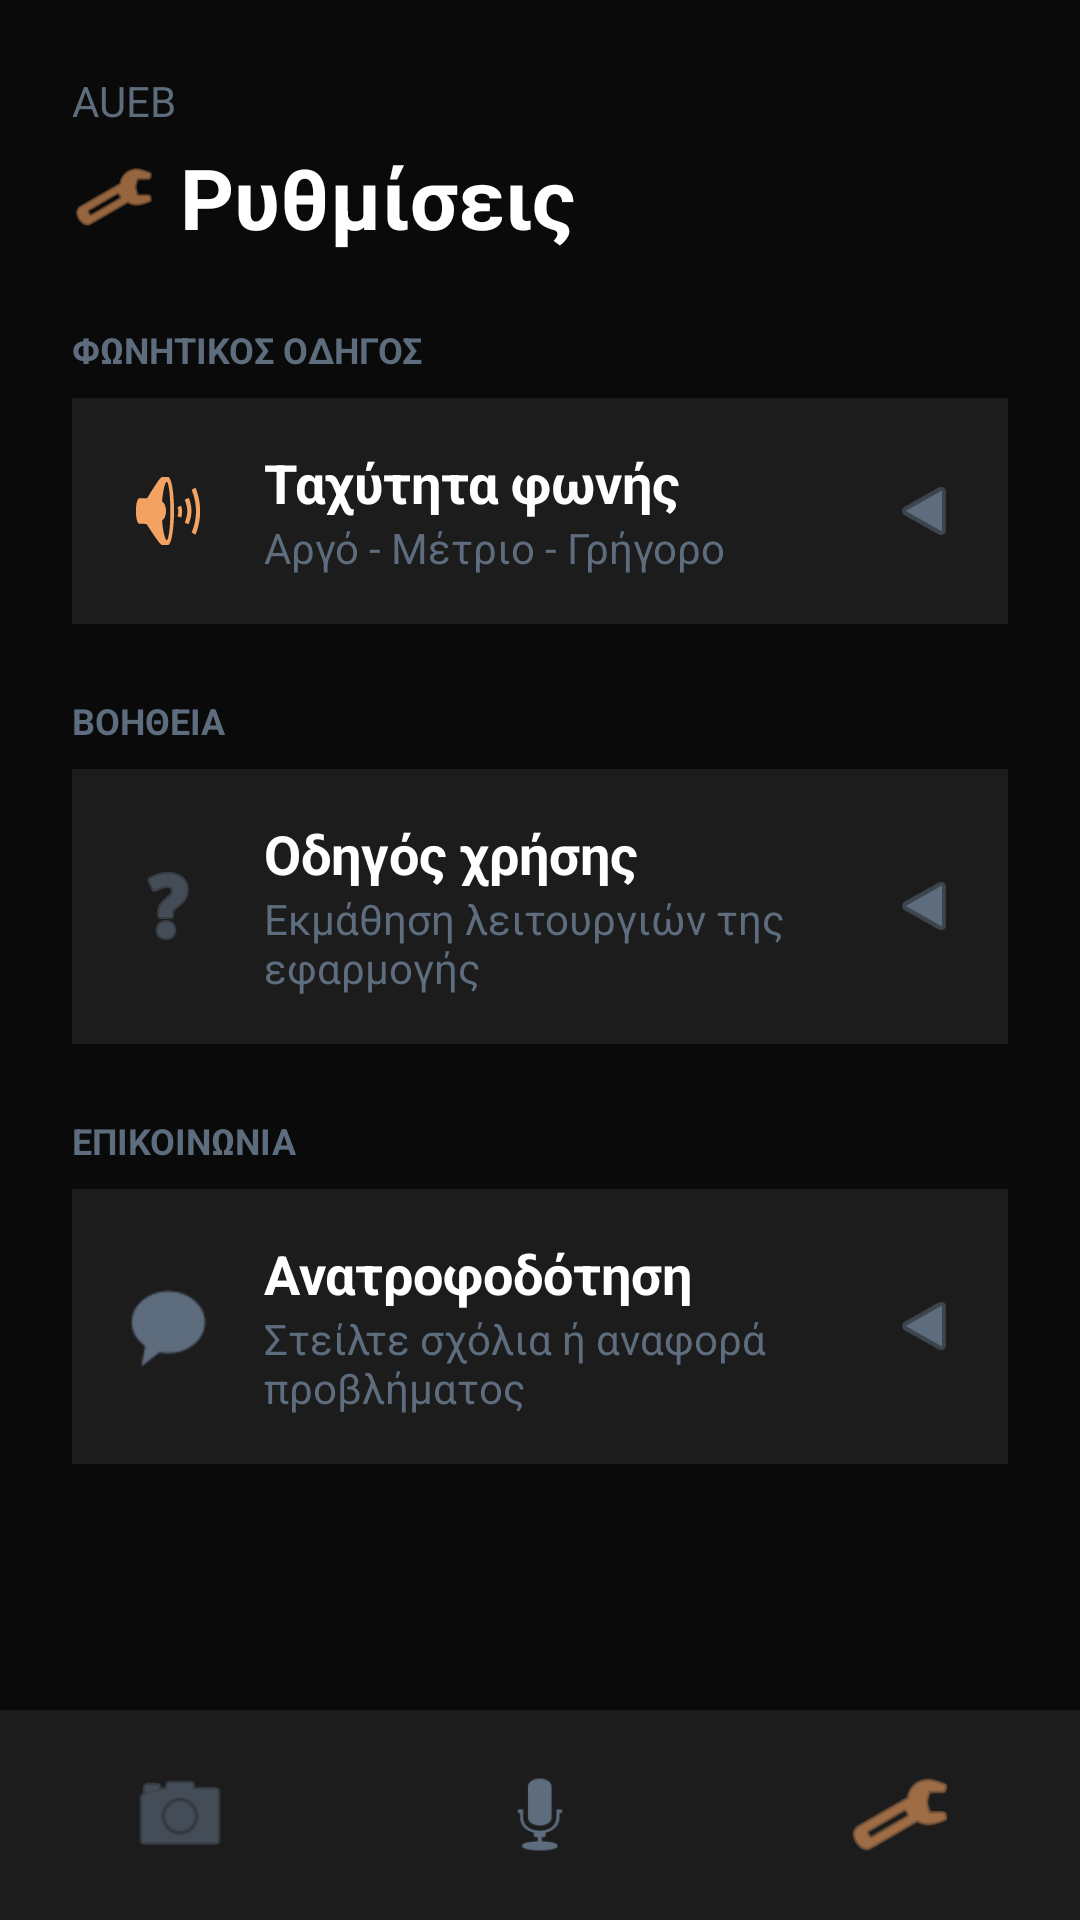

Where to tap for icons on this 1080×1920 app screen, as (x,y):
camera: (180,1813)
help: (168,906)
manage: (114,197), (900,1814)
speak now: (540,1814)
sym action chat: (168,1328)
